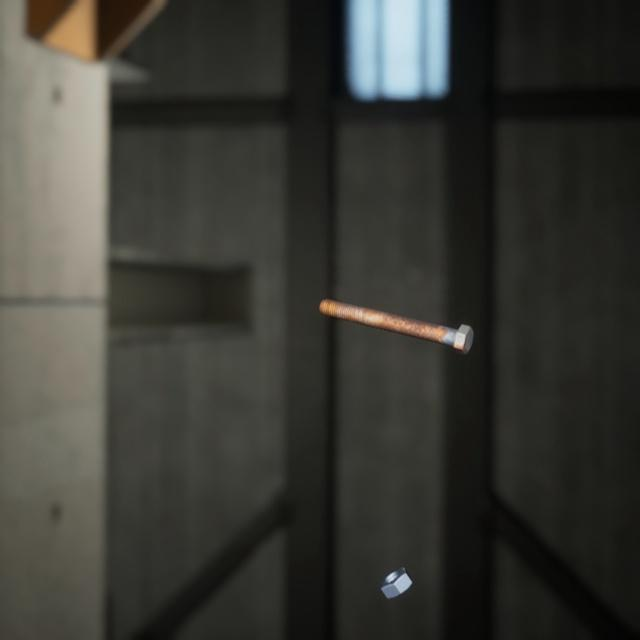bolt: (314, 277, 477, 342)
nut: (375, 540, 417, 580)
